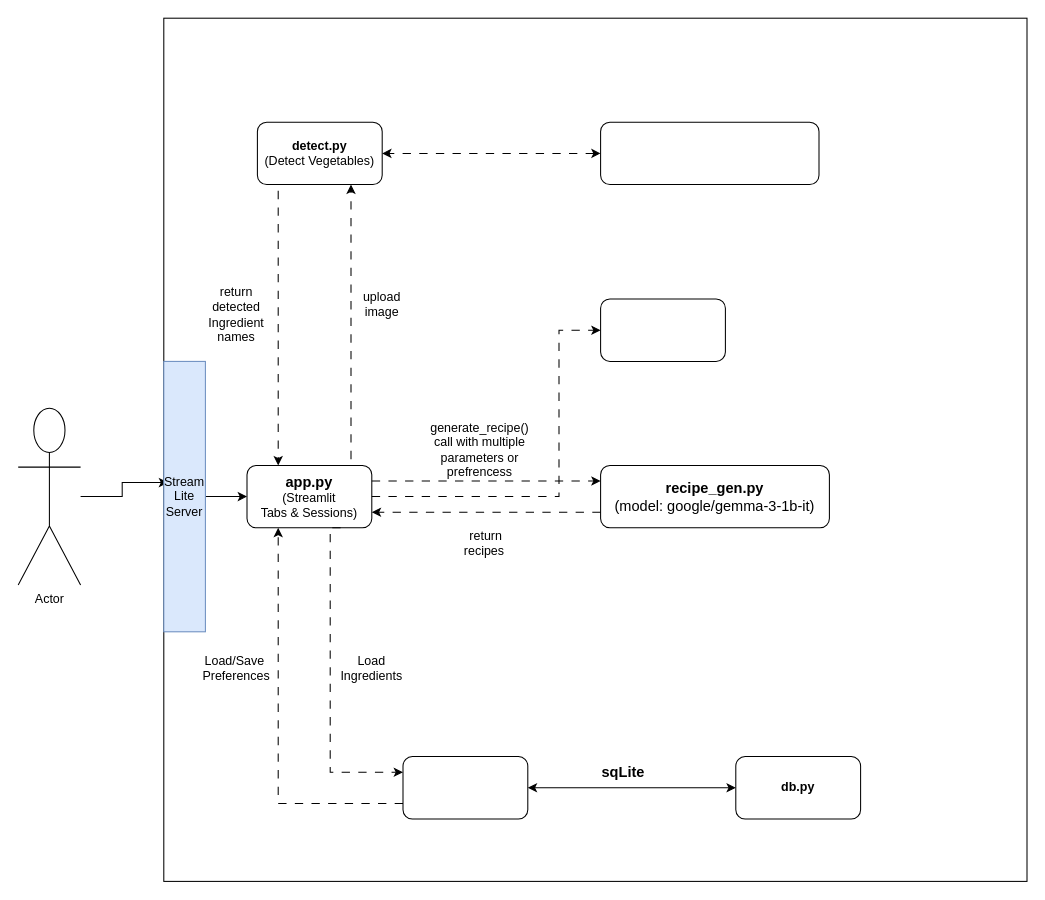
This 1045x900 diagram has some shape labels left out. Here are the shapes that lost their labels. From the top down, the box of each, then its label:
(600, 121, 819, 185): CLIP model : clip-vit-base-patch32 processor : clip-vit-base-patch32
(600, 298, 725, 361): components.py (UI building blocks )
(402, 756, 528, 819): auth.py
